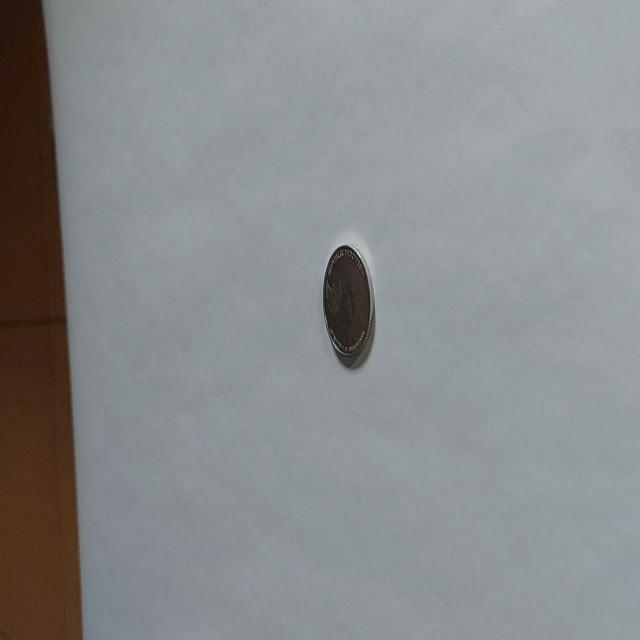lima ratus rupiah: (321, 242, 375, 368)
